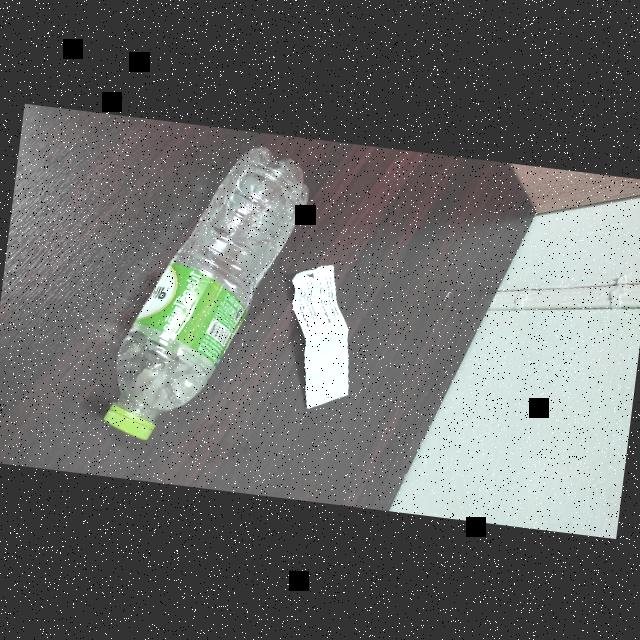plastic_bottle: (85, 126, 318, 461)
plastic_bottle_cap: (102, 402, 160, 438)
scrap_paper: (268, 256, 372, 412)
